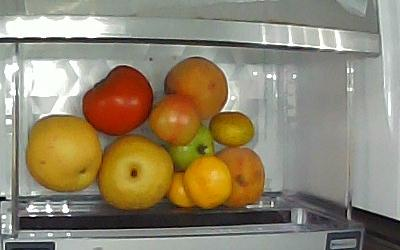peach: (164, 57, 227, 119), (211, 148, 265, 207)
pear: (26, 115, 101, 192), (99, 135, 173, 211)
tangerine: (185, 156, 232, 209), (209, 112, 257, 146), (166, 172, 196, 208)
tomato: (82, 65, 153, 137), (150, 94, 200, 146), (171, 122, 216, 171)
